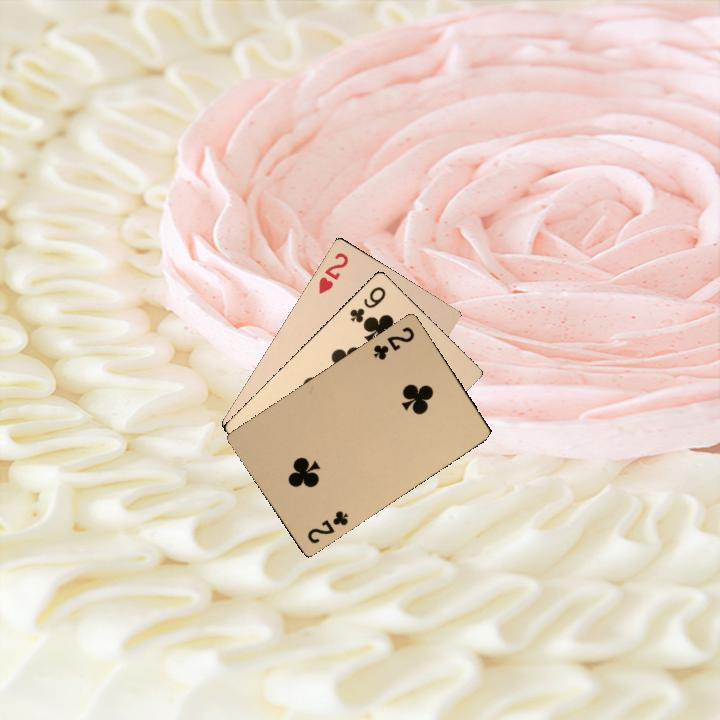2c: (369, 322, 417, 363), (303, 506, 351, 546)
2h: (314, 248, 351, 296)
9c: (345, 282, 388, 325)
